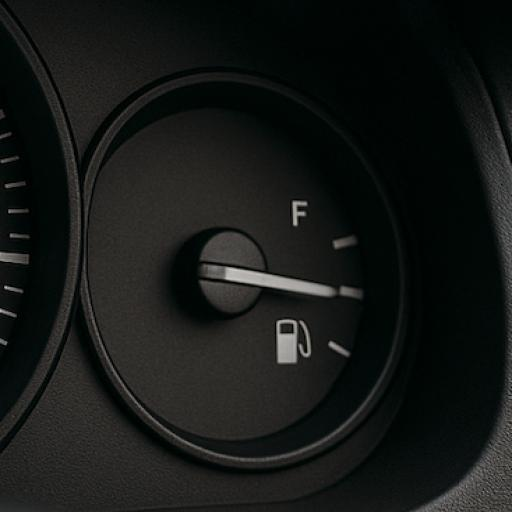fuel_icon: (272, 314, 314, 370)
full: (288, 193, 309, 232)
guage_area: (89, 74, 405, 463)
needle_center: (182, 216, 276, 316)
needle_tip: (307, 274, 338, 304)
